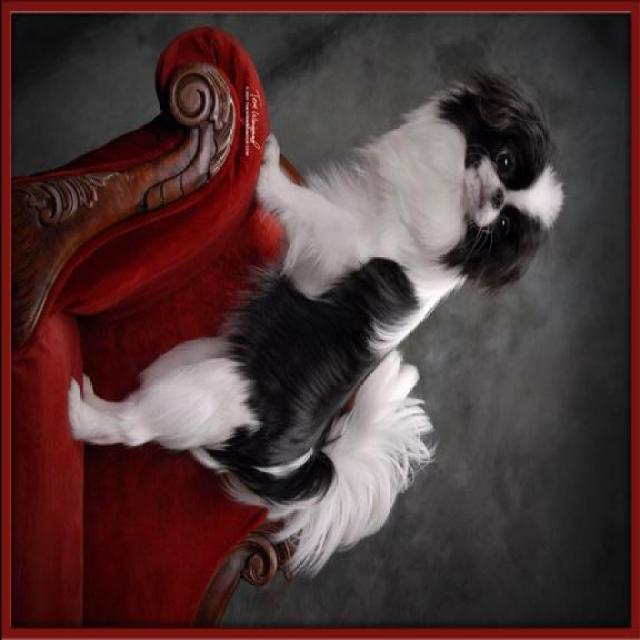husky: (58, 56, 580, 592)
